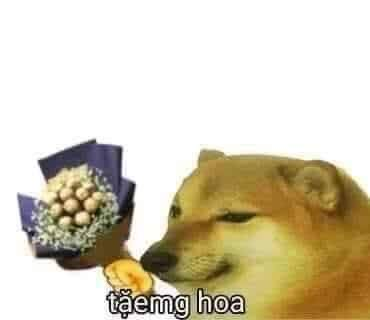dog: (145, 144, 370, 290)
